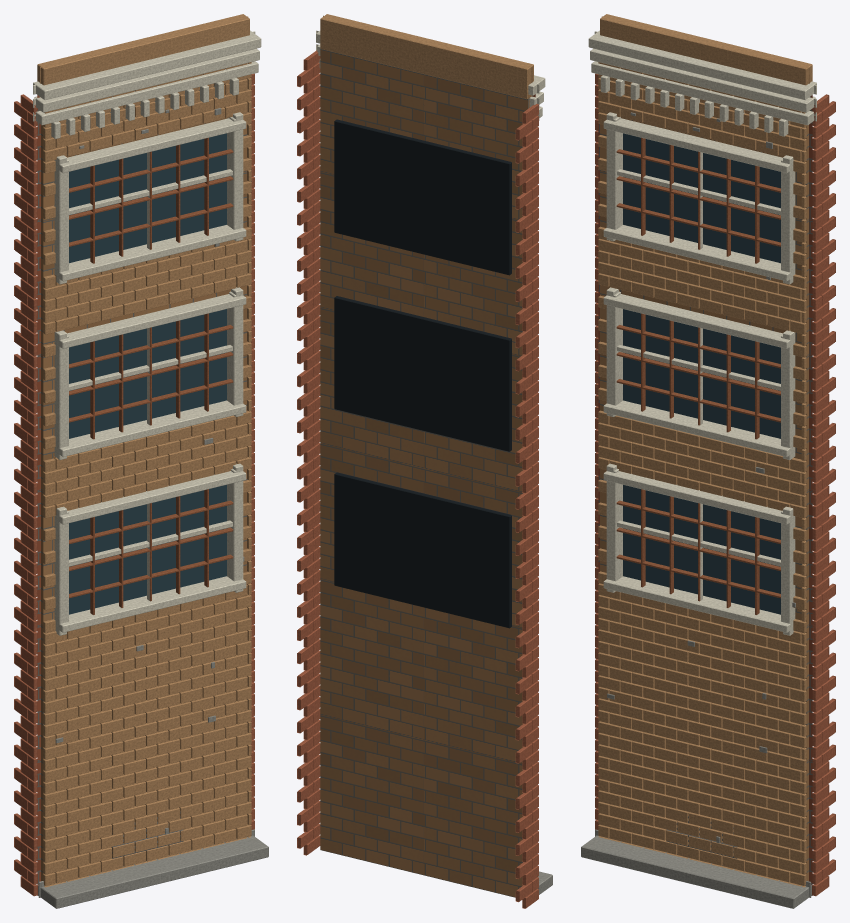
File: WRHS1_lod0.glb
3 views of the same model, side by side, from view 1: azimuth 30°, elevation 25°; view 2: azimuth 150°, elevation 25°; view 3: azimuth 330°, elevation 25° (orthographic).
Parts seen in each view (by area): view 1: WRHS1_FRONT_LOD0; view 2: WRHS1_FRONT_LOD0; view 3: WRHS1_FRONT_LOD0.
Part boxes in pixels (<box>): WRHS1_FRONT_LOD0: <box>14,14,268,908</box>; WRHS1_FRONT_LOD0: <box>297,14,552,908</box>; WRHS1_FRONT_LOD0: <box>581,14,835,908</box>.
Size of the model in its own units: 3.44 by 12.26 by 1.02.
Materials: 14 (12 with a texture image).
